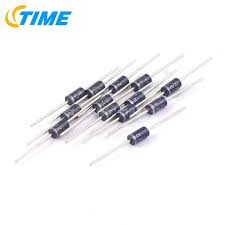diode: (121, 125, 163, 159)
